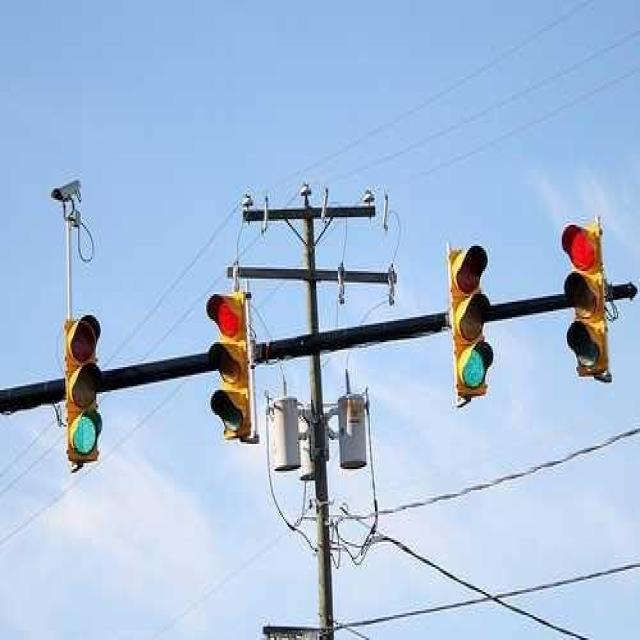Traffic Light -Green-: (448, 240, 495, 406), (61, 307, 105, 469)
Traffic Light -Red-: (554, 212, 626, 390), (204, 284, 256, 448)
